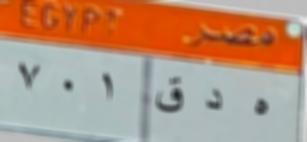0: (60, 74, 77, 98)
1: (98, 70, 117, 108)
7: (17, 61, 42, 96)
daal: (202, 84, 228, 117)
haa: (248, 92, 272, 124)
qaaf: (153, 76, 188, 121)
